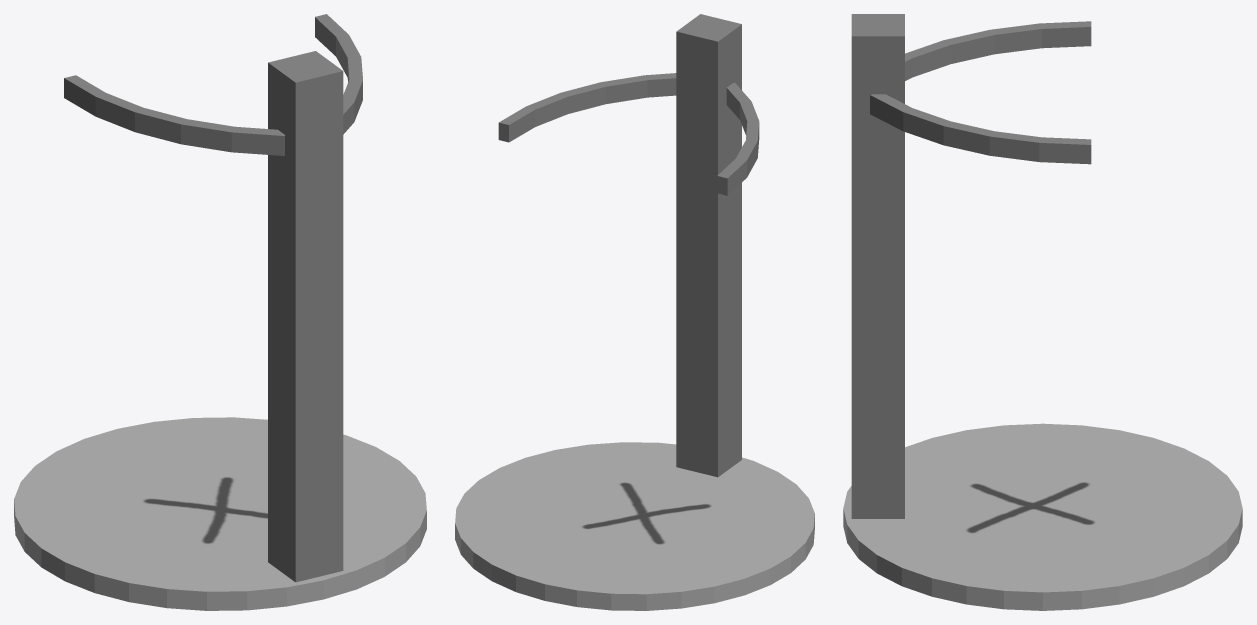
The model's file is pad.gltf.
3 renders of one model, left to right at view 1: azimuth 30°, elevation 25°; view 2: azimuth 150°, elevation 25°; view 3: azimuth 270°, elevation 25°, orthographic. The views are drawn at different scales.
Visible parts, largest first — view 1: Cylinder, Cube, Cylinder.001, Cylinder.002; view 2: Cylinder, Cube, Cylinder.002, Cylinder.001; view 3: Cylinder, Cube, Cylinder.002, Cylinder.001.
Part boxes in pixels (x1,y1,x2,y2): Cylinder: (14, 417, 426, 610); Cube: (268, 51, 343, 582); Cylinder.001: (64, 75, 284, 155); Cylinder.002: (315, 14, 362, 134); Cylinder: (455, 442, 814, 610); Cube: (676, 14, 741, 477); Cylinder.002: (498, 73, 676, 142); Cylinder.001: (717, 83, 759, 195); Cylinder: (843, 423, 1242, 610); Cube: (851, 14, 904, 518); Cylinder.002: (870, 94, 1091, 164); Cylinder.001: (905, 21, 1091, 80).
Bounding box in the file's own units: 1.5 × 2.08 × 1.5.
2 materials, 1 textured.
